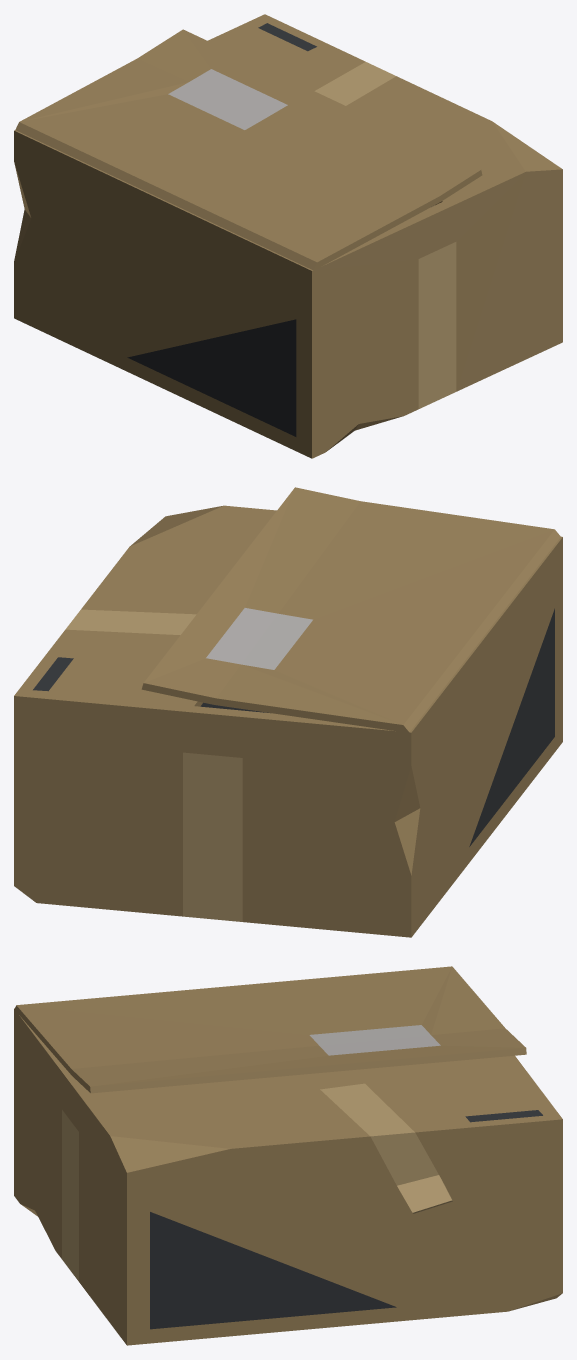
Rendered from 拆快递.fbx.
The picture shows the model from 3 angles, top to bottom: view 1: azimuth 30°, elevation 25°; view 2: azimuth 150°, elevation 25°; view 3: azimuth 270°, elevation 25°; orthographic projection. The views are drawn at different scales.
Visible parts, largest first — view 1: huitugou_2200_3229; view 2: huitugou_2200_3229; view 3: huitugou_2200_3229.
Part boxes in pixels (x1,y1,x2,y2): huitugou_2200_3229: (14,14,562,458); huitugou_2200_3229: (14,487,562,937); huitugou_2200_3229: (14,966,562,1345).
Size of the model in its own units: 69.5 by 36.12 by 85.5.
